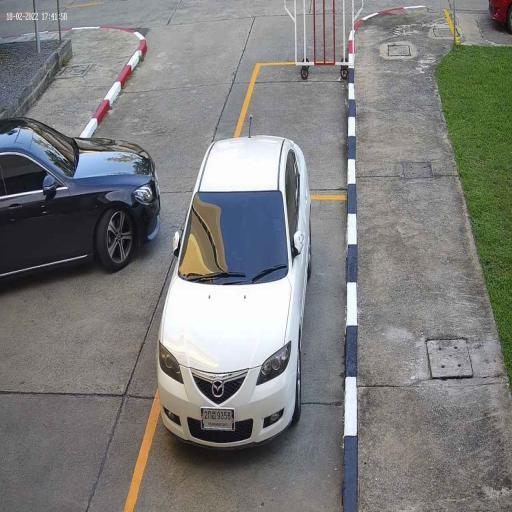car: (156, 132, 312, 449), (0, 116, 161, 285)
